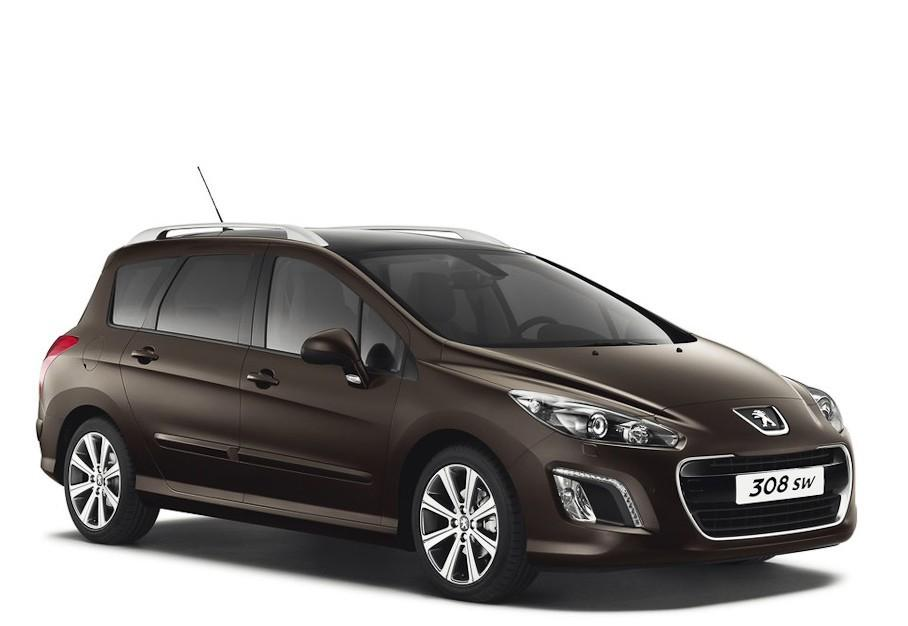Wagon: (35, 222, 858, 604)
